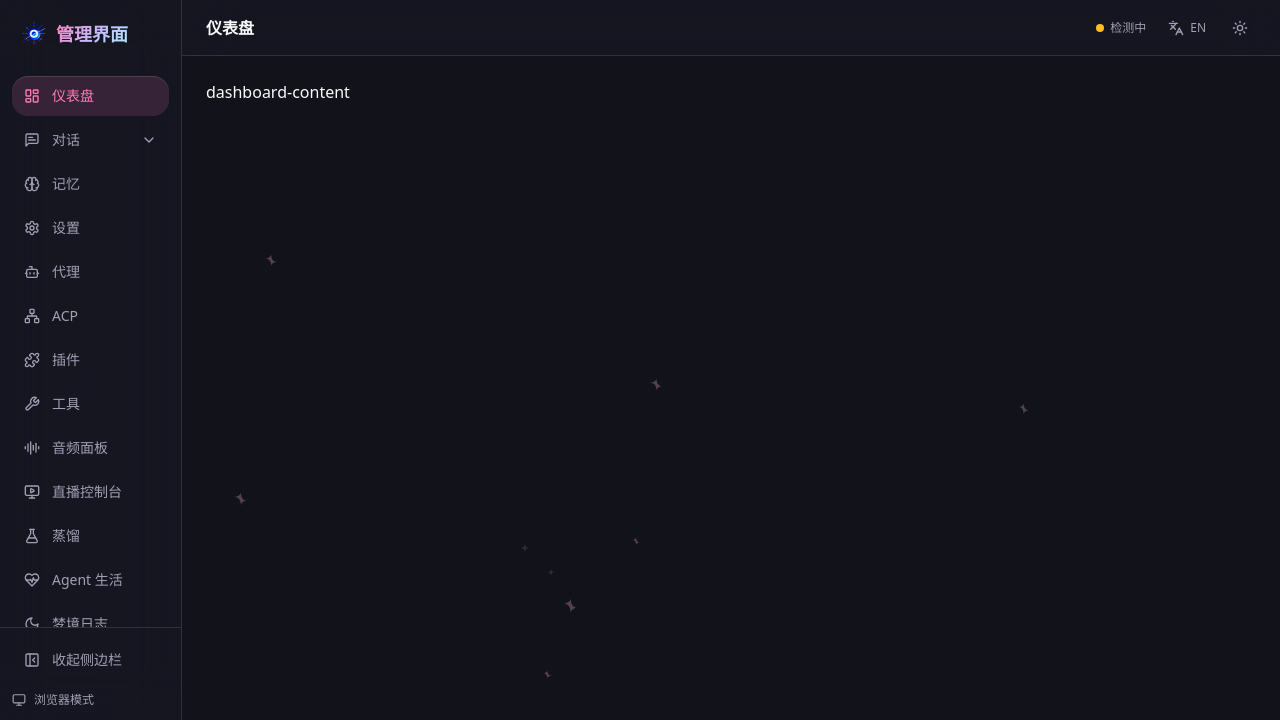
Test: ManagementLayout 增强侧边栏 › C. 对话 Agent 子菜单：展开显示列表，点击切换 Agent 并跳转 /chat
The width and height of the screenshot is (1280, 720).
Expected: the text "Agent One" is not shown
Click the button "对话". click: (90, 140)
box: [12, 120, 169, 160]
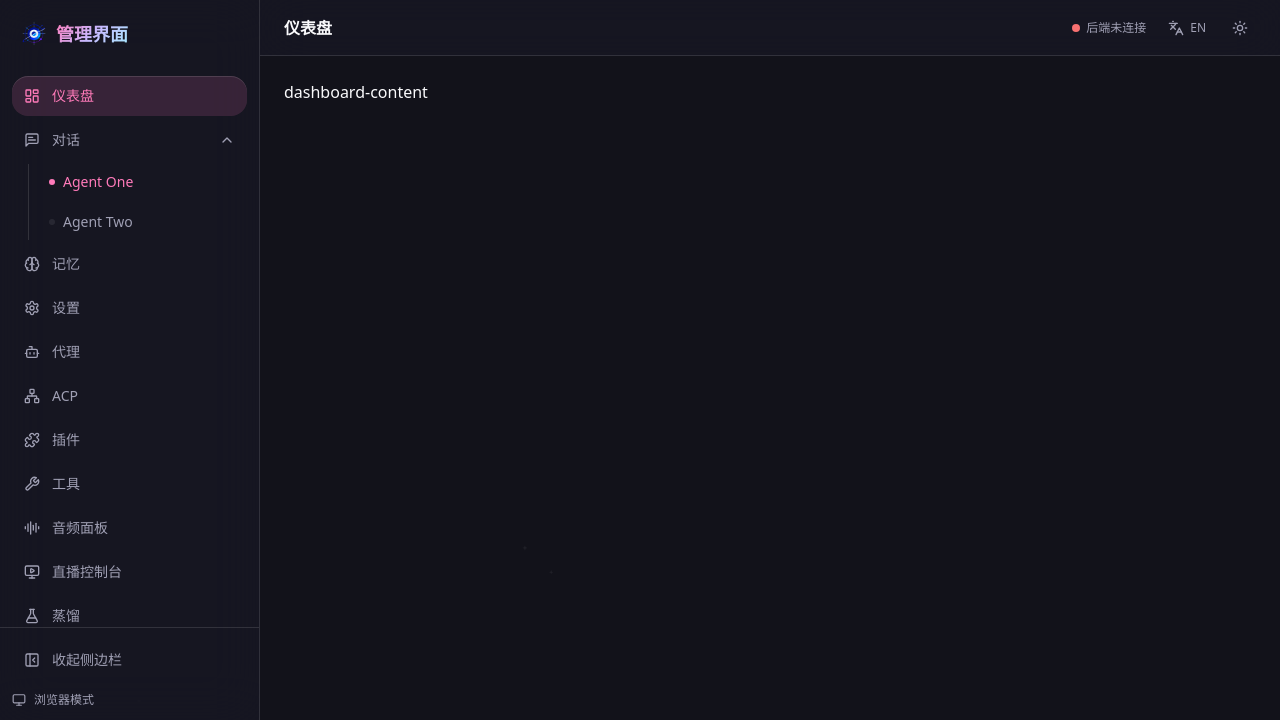
Expected: the text "Agent One" is shown, [63, 172, 133, 192]
Expected: the text "Agent Two" is shown, [63, 212, 133, 232]
Click the button "Agent Two". click: (144, 222)
box: [41, 204, 247, 240]
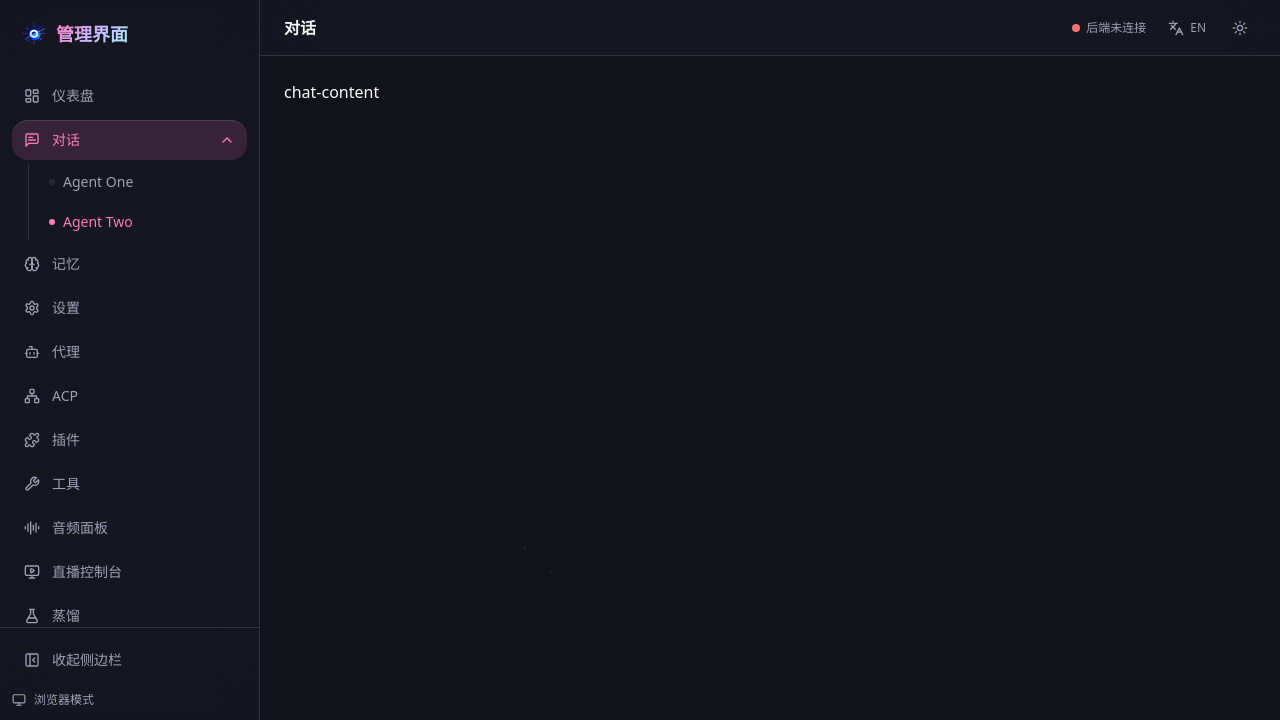
Expected: the text "chat-content" is shown, [284, 81, 379, 103]
